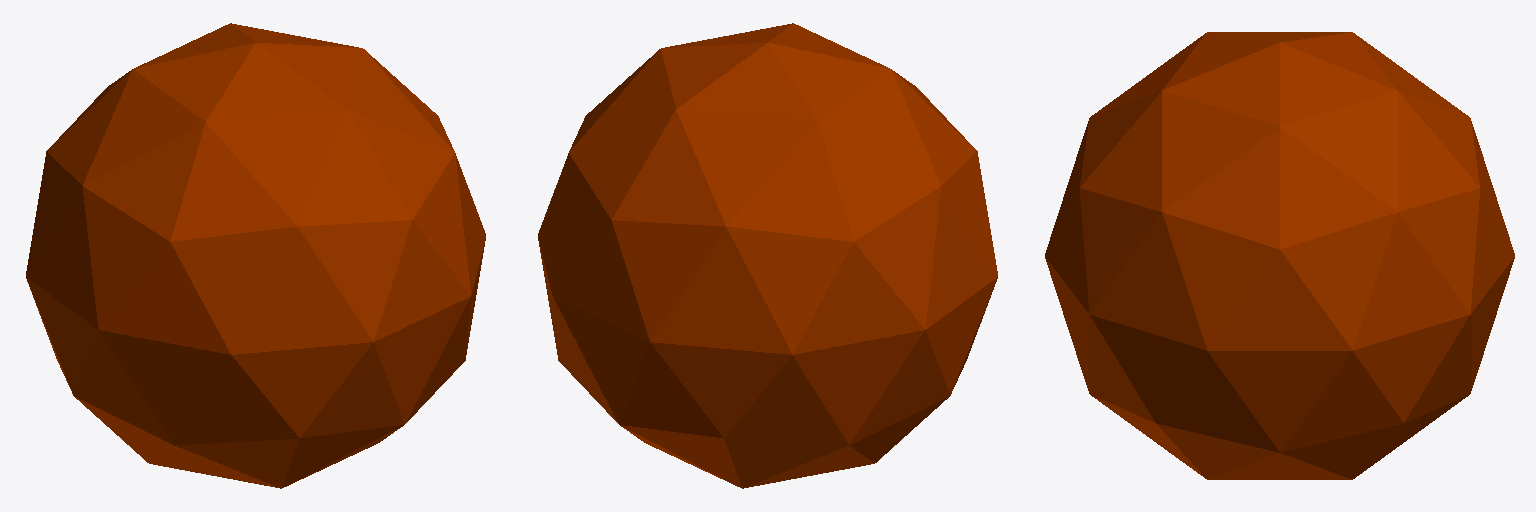
The model's file is topaze.obj.
3 views of the same model, side by side, from view 1: azimuth 30°, elevation 25°; view 2: azimuth 150°, elevation 25°; view 3: azimuth 270°, elevation 25° (orthographic).
Parts seen in each view (by area): view 1: Icosphere_Icosphere.002; view 2: Icosphere_Icosphere.002; view 3: Icosphere_Icosphere.002.
Part boxes in pixels (bbox=[...]): Icosphere_Icosphere.002: bbox=[26, 23, 485, 488]; Icosphere_Icosphere.002: bbox=[538, 23, 997, 488]; Icosphere_Icosphere.002: bbox=[1045, 32, 1514, 479].
Bounding box in the file's own units: 1.9 × 2 × 2.